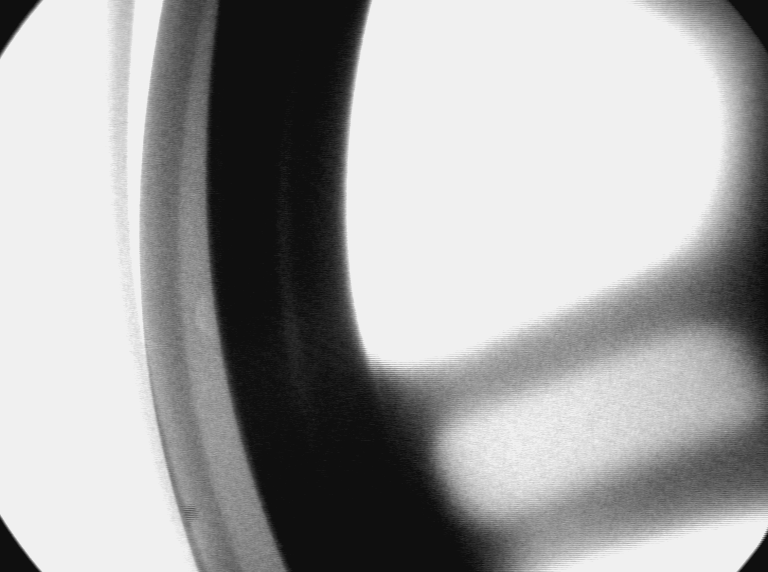defect: (192, 290, 222, 346)
